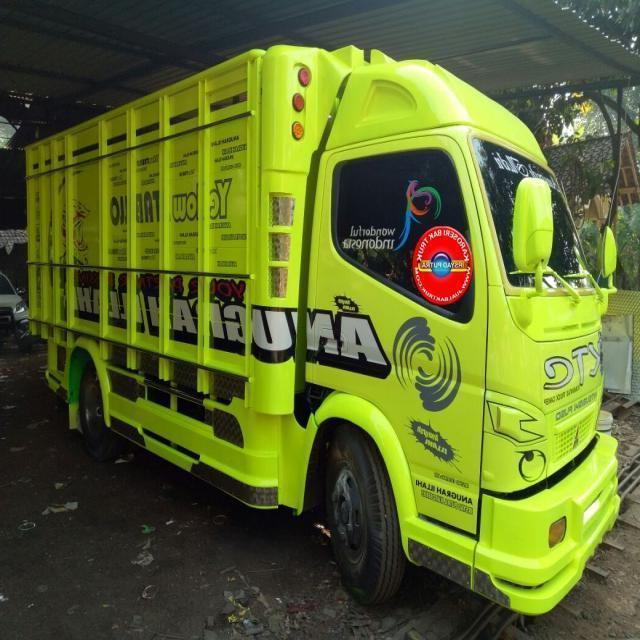Truck: (28, 31, 624, 620)
